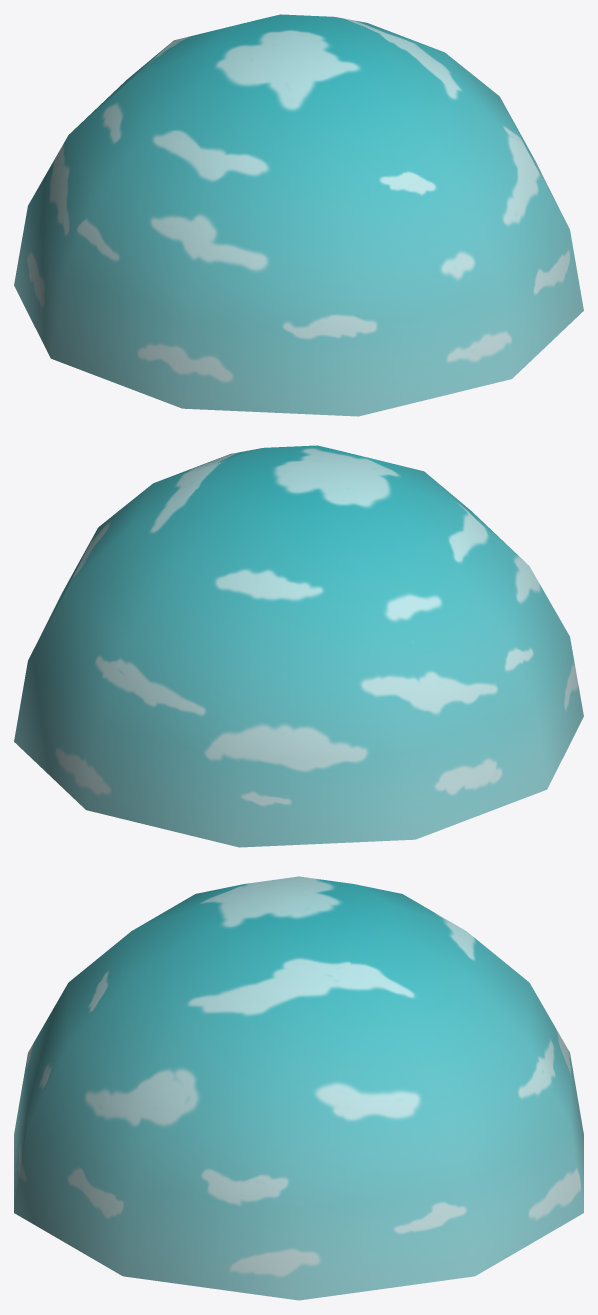
The model's file is SkyDome.fbx.
The picture shows the model from 3 angles, top to bottom: view 1: azimuth 30°, elevation 25°; view 2: azimuth 150°, elevation 25°; view 3: azimuth 270°, elevation 25°; orthographic projection. The views are drawn at different scales.
Parts seen in each view (by area): view 1: pSphere1; view 2: pSphere1; view 3: pSphere1.
Boxes of the visible parts, x1,y1,x2,y2 form: pSphere1: [14, 14, 583, 416]; pSphere1: [14, 445, 583, 847]; pSphere1: [14, 876, 583, 1300].
Bounding box in the file's own units: 2 × 1 × 1.9.
Materials: 1 (1 with a texture image).
